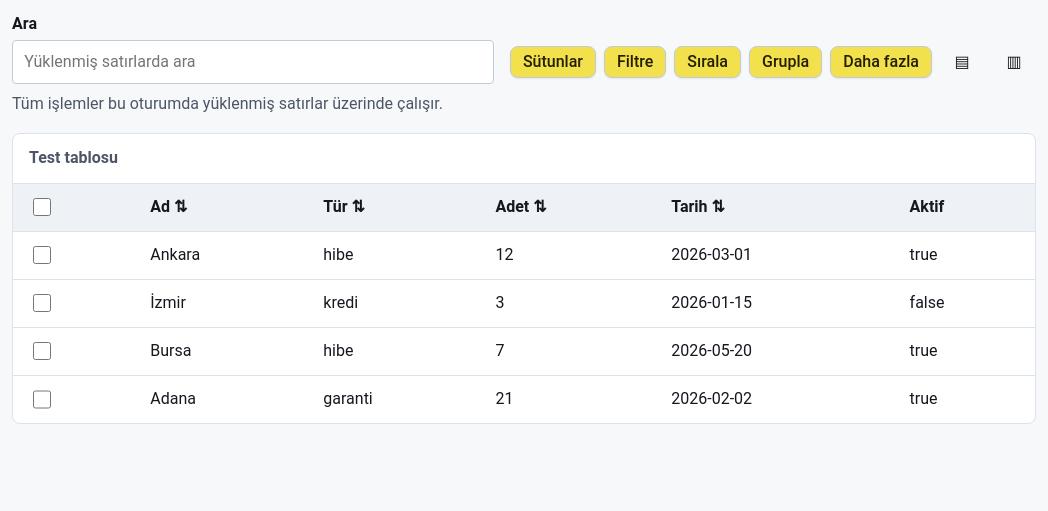
it: selection and bulk actions › renders a forbidden bulk action as disabled with its reason
This screenshot has width=1048, height=511.
Click the checkbox named "Ankara satırını seç" next to "Ankara" at coordinates (42, 255), box [33,246,51,264]
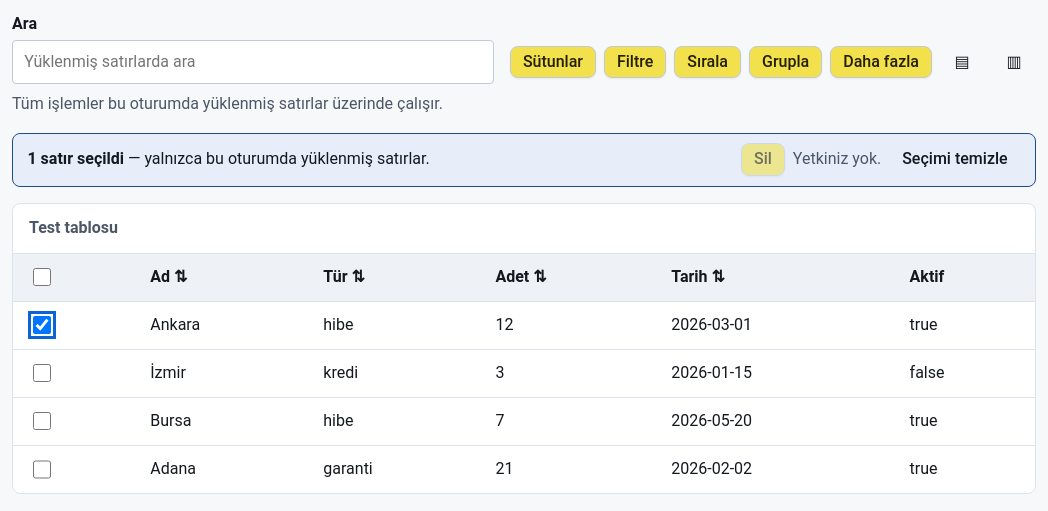
Expected: the button "Sil" is disabled, [741,143,785,176]
Expected: the text "Yetkiniz yok." is shown, [793,147,881,172]
